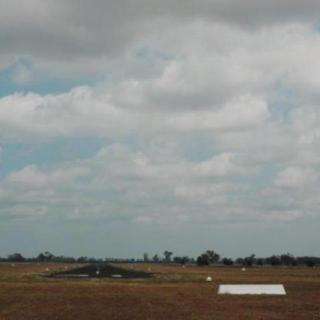Cumulus: (0, 1, 320, 265)
